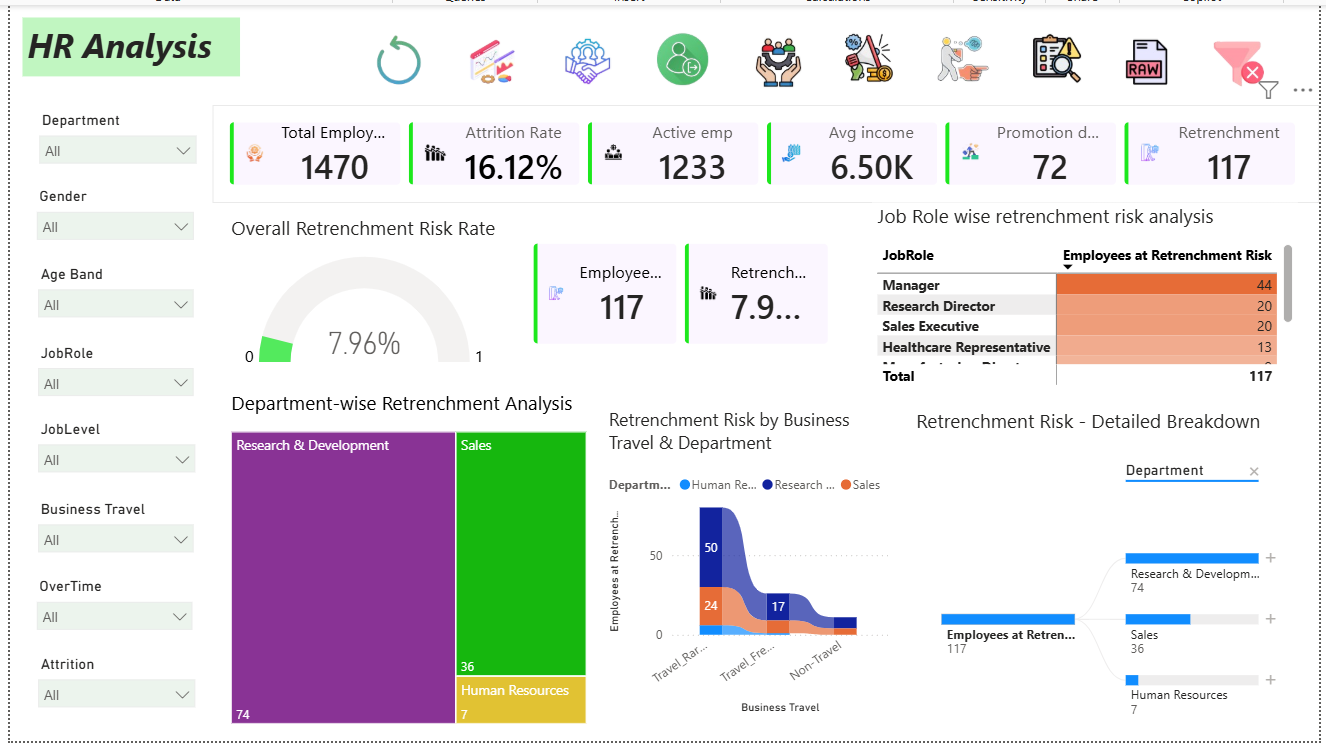

This screenshot's page, from the dashboard's own definition file:
{"tool":"powerbi","page":{"name":"HR Dashboard","canvas":[1280,720],"ordinal":0},"visuals":[{"type":"textbox","box":[12.1,12.1,212.9,57.9],"z":0},{"type":"ChicletSlicer1448559807354","fields":{"Category":["HR Metrics.HR Metrics"]},"box":[199.3,195.7,1081,99],"z":0,"group":"g1"},{"type":"cardVisual","fields":{"Data":["Measures#.Total Employees","Measures#.Attrition Rate","Measures#.Active Employees","Measures#.Average Monthly Income","Measures#.Promotion Due Employees","Measures#.Retrenchment"]},"box":[198.6,98.1,1081.2,95.6],"z":1000},{"type":"ChicletSlicer1448559807354","fields":{"Category":["HR Attributes.HR Attributes"]},"box":[199.3,303.3,1081,97.8],"z":1000,"group":"g1"},{"type":"slicer","fields":{"Values":["Employee_Master.Department"]},"box":[17.9,98.6,173.6,68.5],"z":2000},{"type":"clusteredColumnChart","fields":{"Category":["Employee_Master.JobLevel"],"Y":["Measures#.Retention Rate","Measures#.Attrition Rate"]},"box":[225,410.9,1043.1,288.6],"z":2000,"group":"g1"},{"type":"slicer","fields":{"Values":["Employee_Master.Gender"]},"box":[16.2,173.8,173.8,68.7],"z":3000},{"type":"slicer","fields":{"Values":["Employee_Master.Age Band"]},"box":[17.5,249.3,172.5,68.7],"z":4000},{"type":"slicer","fields":{"Values":["Employee_Master.JobRole"]},"box":[17.5,326.1,172.5,68.7],"z":5000},{"type":"slicer","fields":{"Values":["Employee_Master.OverTime"]},"box":[16.2,555.2,172.5,68.7],"z":6000},{"type":"slicer","fields":{"Values":["Employee_Master.JobLevel"]},"box":[17.5,401.6,173.8,68.7],"z":7000},{"type":"slicer","fields":{"Values":["Employee_Master.Business Travel"]},"box":[17.5,479.8,172.5,68.7],"z":8000},{"type":"slicer","fields":{"Values":["Employee_Master.Attrition"]},"box":[17.5,630.7,173.8,68.7],"z":9000},{"type":"image","box":[434.2,21,78.2,70.1],"z":10000},{"type":"image","box":[803.5,21,78.2,70.1],"z":11000},{"type":"image","title":"Reset","box":[342.6,21,78,70],"z":12000},{"type":"image","box":[525.9,21,78.2,70.1],"z":13000},{"type":"image","box":[617.5,21,78.2,70.1],"z":14000},{"type":"image","box":[711.8,21,78.2,70.1],"z":15000},{"type":"image","box":[984.3,21.1,78.2,69.5],"z":16000},{"type":"image","box":[1075,21.1,78.2,69.5],"z":17000},{"type":"image","box":[1165.6,21.1,78.2,69.5],"z":18000},{"type":"group","id":"g1","title":"HR Analysis Panel","box":[199.3,195.7,1081,503.8],"z":19000},{"type":"image","box":[893.7,21.1,78.2,69.5],"z":24000}]}

Visuals, with their boxes on the page's 1280x720 design canvas (x1, y1, x2, y2). These are canvas units, not pixel positions in the 1326x750 screenshot, which may show the page scaled, cropped or inside an application window:
textbox: x1=12 y1=12 x2=225 y2=70
ChicletSlicer1448559807354 - HR Metrics.HR Metrics: x1=199 y1=196 x2=1280 y2=295
cardVisual - Measures#.Total Employees x Measures#.Attrition Rate: x1=199 y1=98 x2=1280 y2=194
ChicletSlicer1448559807354 - HR Attributes.HR Attributes: x1=199 y1=303 x2=1280 y2=401
slicer - Employee_Master.Department: x1=18 y1=99 x2=192 y2=167
clusteredColumnChart - Employee_Master.JobLevel x Measures#.Retention Rate: x1=225 y1=411 x2=1268 y2=700
slicer - Employee_Master.Gender: x1=16 y1=174 x2=190 y2=242
slicer - Employee_Master.Age Band: x1=18 y1=249 x2=190 y2=318
slicer - Employee_Master.JobRole: x1=18 y1=326 x2=190 y2=395
slicer - Employee_Master.OverTime: x1=16 y1=555 x2=189 y2=624
slicer - Employee_Master.JobLevel: x1=18 y1=402 x2=191 y2=470
slicer - Employee_Master.Business Travel: x1=18 y1=480 x2=190 y2=548
slicer - Employee_Master.Attrition: x1=18 y1=631 x2=191 y2=699
image: x1=434 y1=21 x2=512 y2=91
image: x1=804 y1=21 x2=882 y2=91
"Reset" image: x1=343 y1=21 x2=421 y2=91
image: x1=526 y1=21 x2=604 y2=91
image: x1=618 y1=21 x2=696 y2=91
image: x1=712 y1=21 x2=790 y2=91
image: x1=984 y1=21 x2=1062 y2=91
image: x1=1075 y1=21 x2=1153 y2=91
image: x1=1166 y1=21 x2=1244 y2=91
"HR Analysis Panel" group: x1=199 y1=196 x2=1280 y2=700
image: x1=894 y1=21 x2=972 y2=91
